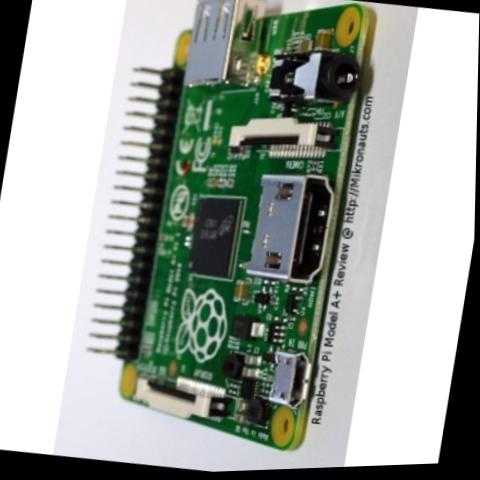Raspberry-Pi-1-Model-A-: (58, 0, 406, 470)
